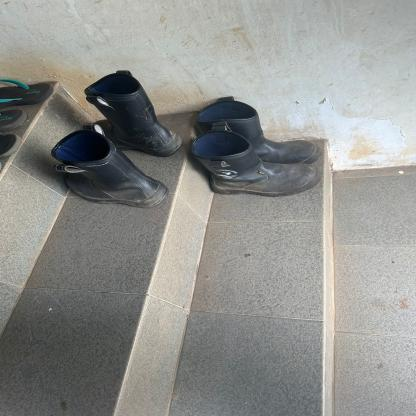bota: (41, 123, 176, 217), (191, 90, 335, 162), (178, 133, 326, 198), (75, 76, 188, 157)
